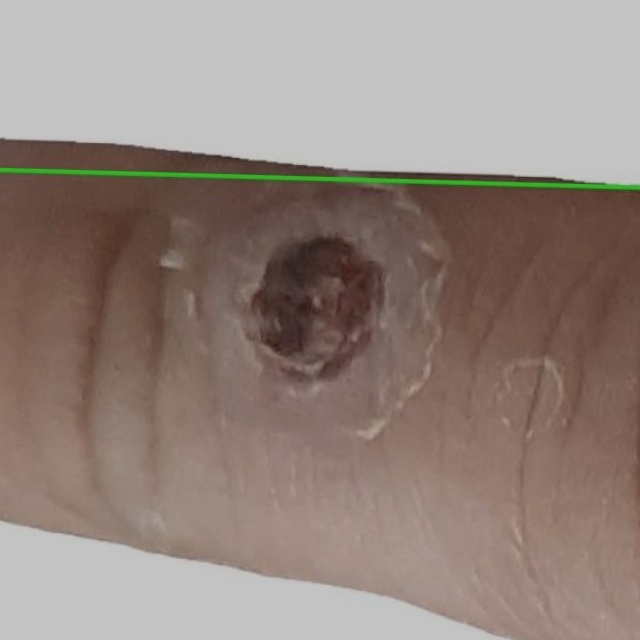Scabies: (0, 0, 639, 187)
